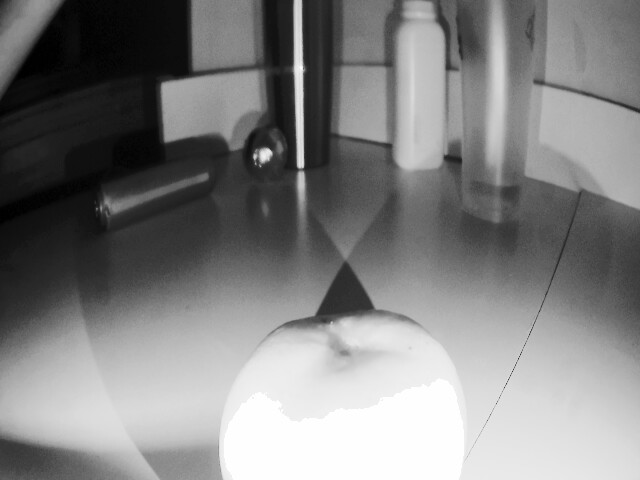silver: (236, 125, 291, 191)
